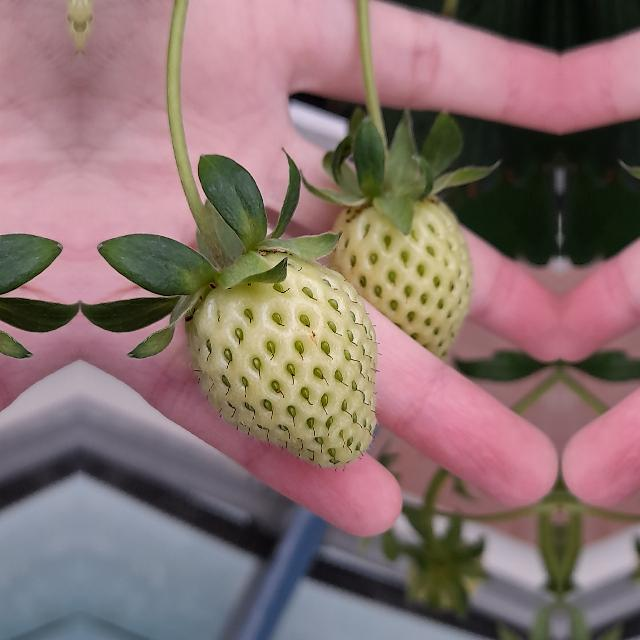Health_25: (185, 252, 377, 466), (332, 195, 474, 368)
